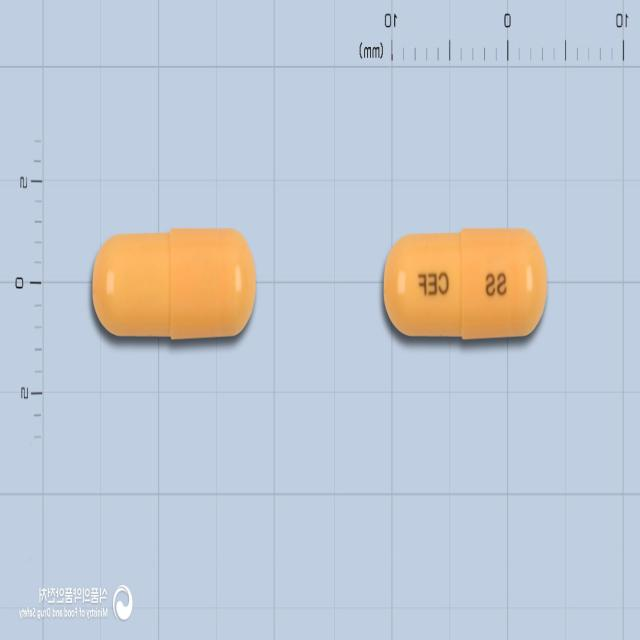Amoxicle: (90, 226, 256, 342), (382, 228, 546, 341)
